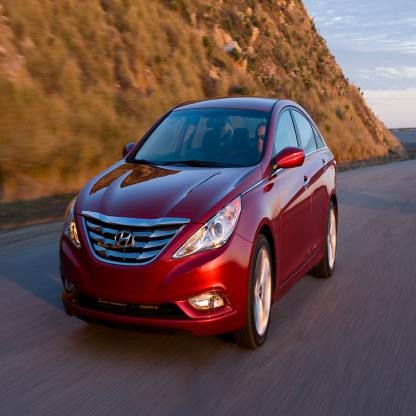Vehicle: (46, 87, 354, 365)
